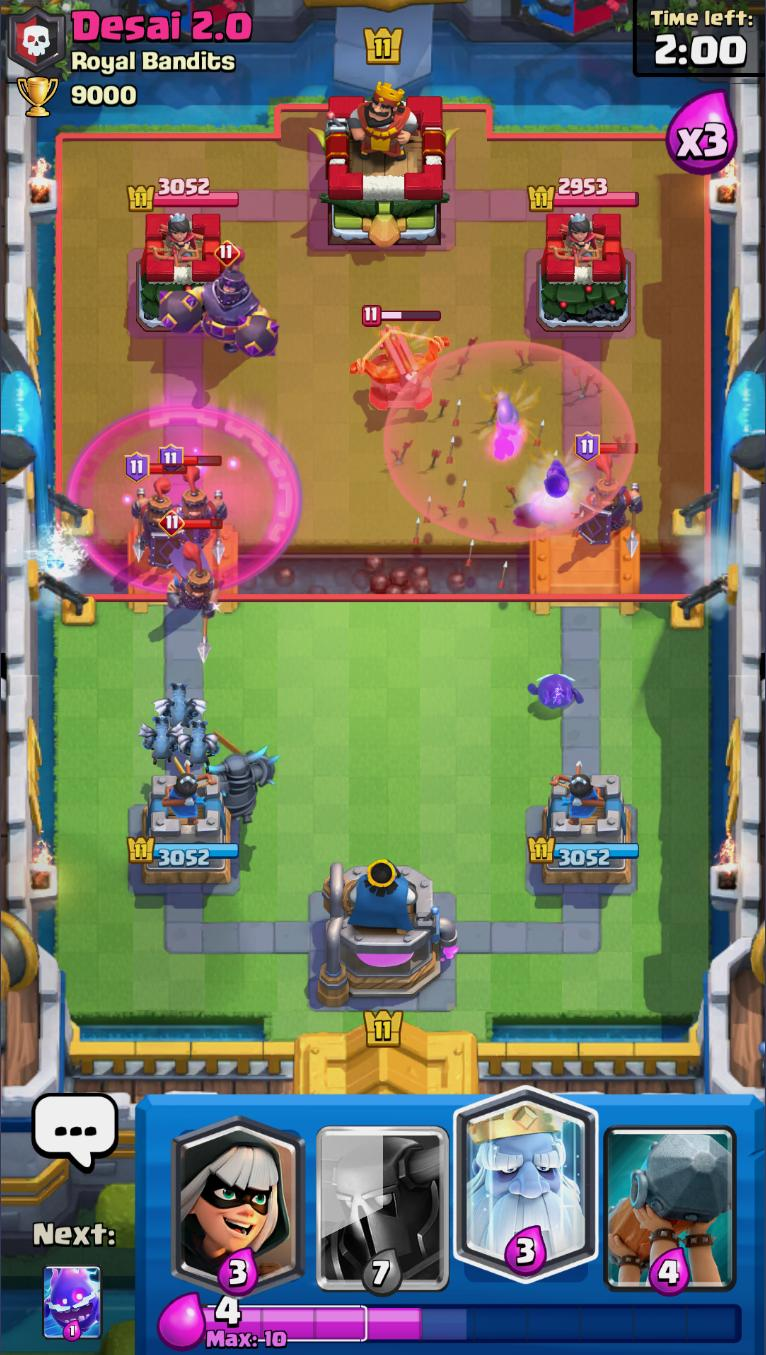Arrows: (387, 343, 636, 541)
BanditDeck: (164, 1096, 313, 1294)
BattleRamDeck: (599, 1094, 741, 1296)
ElectroSpiritNext: (41, 1263, 103, 1343)
Elixir: (201, 1296, 741, 1351)
EnemyTower: (136, 211, 234, 331), (538, 209, 632, 333), (129, 178, 239, 212), (529, 178, 640, 211)
EvoMegaKnight: (157, 241, 279, 360)
EvoRoyalRecruit: (155, 509, 219, 669), (572, 430, 645, 555), (122, 452, 188, 571), (156, 445, 228, 549)
KingTower: (311, 79, 459, 246)
MyElectroSpirit: (523, 673, 585, 712)
MyKingTower: (317, 860, 460, 1007)
MyMinion: (153, 681, 207, 733), (174, 717, 226, 770), (139, 710, 183, 761)
MyPekka: (173, 733, 280, 830)
MyPrincessTower: (129, 771, 240, 889), (531, 773, 639, 889)
MyPrincessTowerHP: (126, 836, 241, 867), (531, 835, 640, 866)
PekkaDeck: (311, 1099, 454, 1296)
PrincessTower: (550, 211, 605, 264), (149, 213, 204, 264)
Rage: (71, 406, 300, 591)
RoyaleGhostDeck: (456, 1096, 597, 1294)
XBow: (354, 303, 457, 409)
